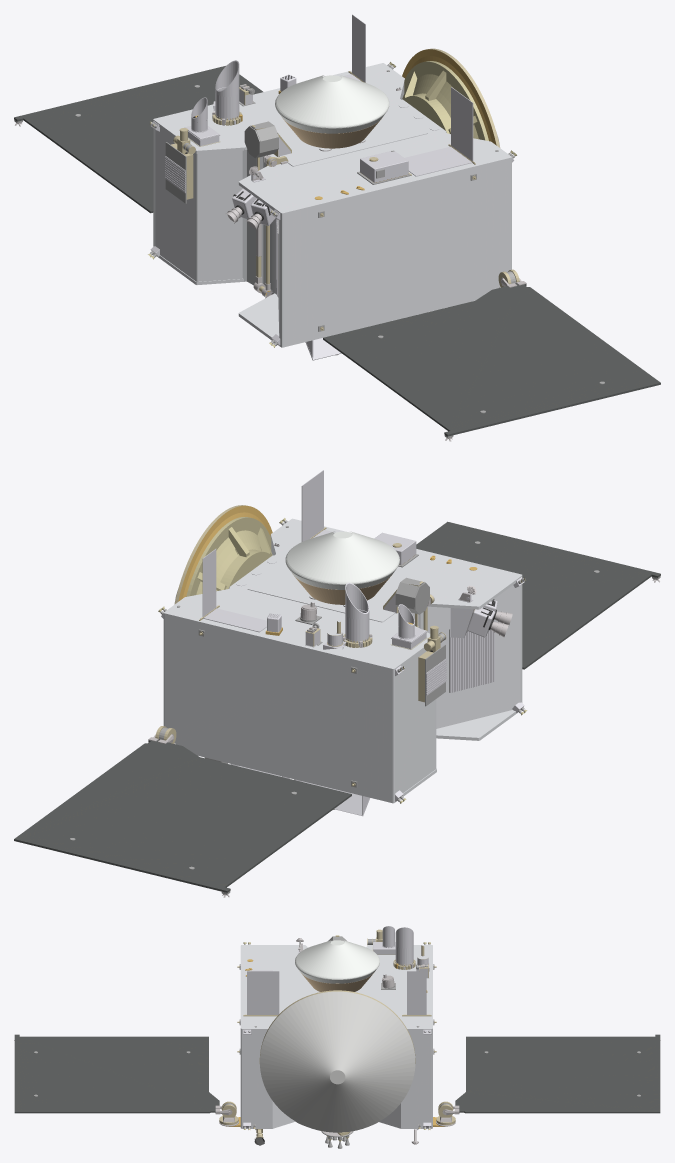
File: osiris_rex.glb
The picture shows the model from 3 angles, top to bottom: view 1: azimuth 30°, elevation 25°; view 2: azimuth 150°, elevation 25°; view 3: azimuth 270°, elevation 25°; orthographic projection. The views are drawn at different scales.
Parts seen in each view (by area): view 1: Main Layer; view 2: Main Layer; view 3: Main Layer.
Boxes of the visible parts, left/top/right/bottom form: Main Layer: left=14, top=14, right=660, bottom=441; Main Layer: left=14, top=470, right=660, bottom=897; Main Layer: left=14, top=926, right=660, bottom=1148.
Bounding box in the file's own units: 13.72 × 12.01 × 34.65.
1 material, 1 textured.
